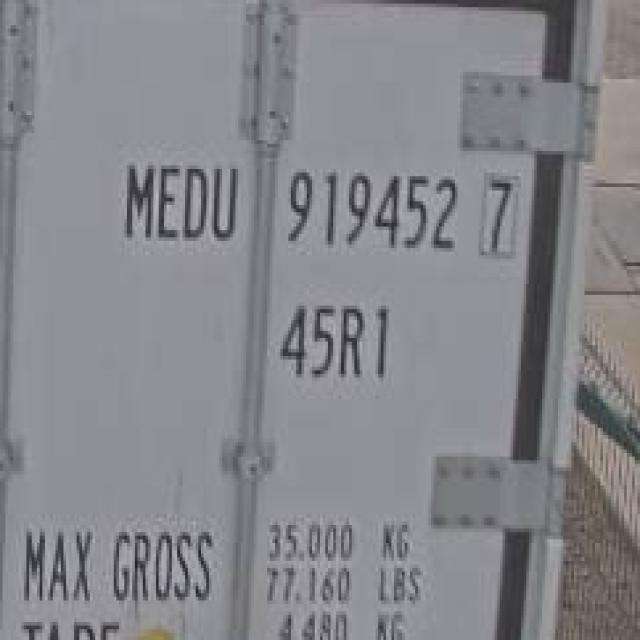dv: (473, 168, 532, 258)
owner: (115, 148, 243, 254)
serial: (279, 162, 458, 259)
size: (276, 289, 396, 385)
